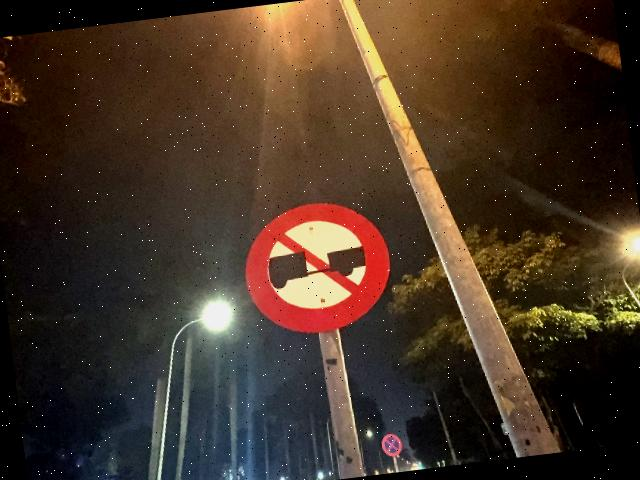cam-xe-somi-romooc: (236, 194, 398, 343)
